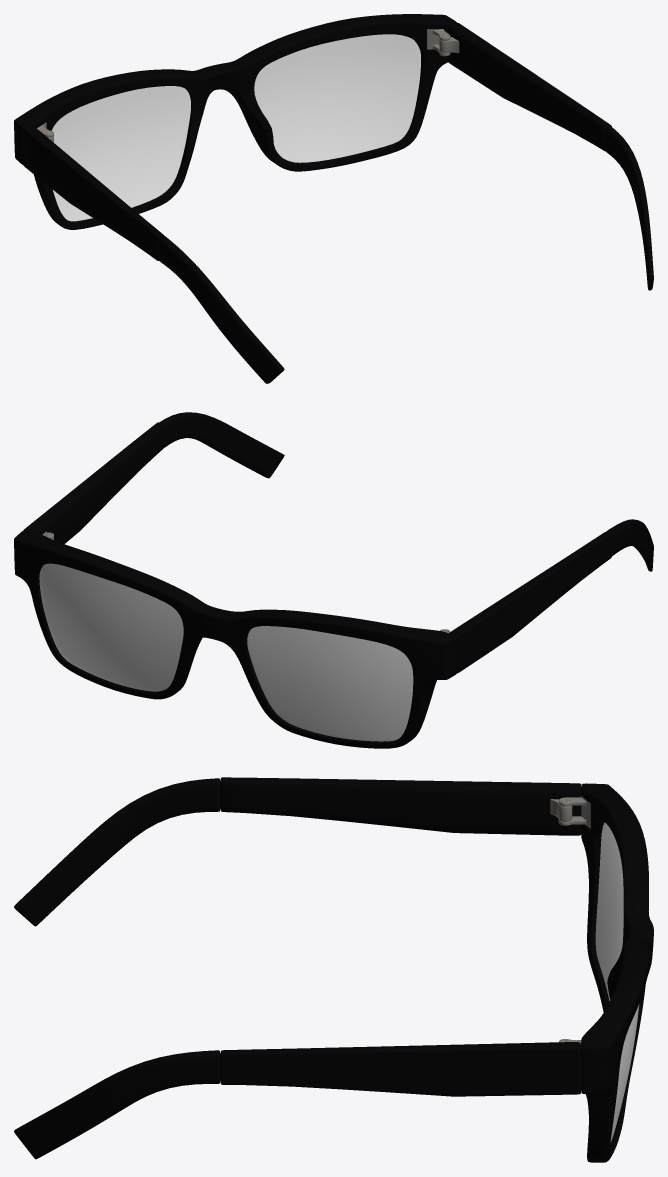
File: prova1.gltf
3 views of the same model, one above another, from view 1: azimuth 30°, elevation 25°; view 2: azimuth 150°, elevation 25°; view 3: azimuth 270°, elevation 25° (orthographic). The views are drawn at different scales.
Parts seen in each view (by area): view 1: GLASSES_3.014, GLASSES, GLASSES_3.012, GLASSES_3.016, GLASSES_3.017, GLASSES_3.015; view 2: GLASSES_3.014, GLASSES, GLASSES_3.016, GLASSES_3.012, GLASSES_3.015, GLASSES_3.017; view 3: GLASSES_3.012, GLASSES_3.016, GLASSES, GLASSES_3.015, GLASSES_3.017, GLASSES_3.014.
Part boxes in pixels (<box>): GLASSES_3.014: <box>51,34,420,221</box>; GLASSES: <box>14,14,456,229</box>; GLASSES_3.012: <box>439,22,611,151</box>; GLASSES_3.016: <box>23,126,163,260</box>; GLASSES_3.017: <box>158,235,284,383</box>; GLASSES_3.015: <box>605,126,653,290</box>; GLASSES_3.014: <box>39,563,413,741</box>; GLASSES: <box>14,531,456,748</box>; GLASSES_3.016: <box>441,532,611,673</box>; GLASSES_3.012: <box>23,422,164,544</box>; GLASSES_3.015: <box>159,412,284,478</box>; GLASSES_3.017: <box>606,519,653,571</box>; GLASSES_3.012: <box>220,1039,580,1096</box>; GLASSES_3.016: <box>220,777,580,835</box>; GLASSES: <box>558,783,653,1162</box>; GLASSES_3.015: <box>14,1050,220,1159</box>; GLASSES_3.017: <box>14,778,220,926</box>; GLASSES_3.014: <box>595,822,639,1142</box>.
Bounding box in the file's own units: 0.1584 × 0.0436 × 0.1548.
1 material, 1 textured.
